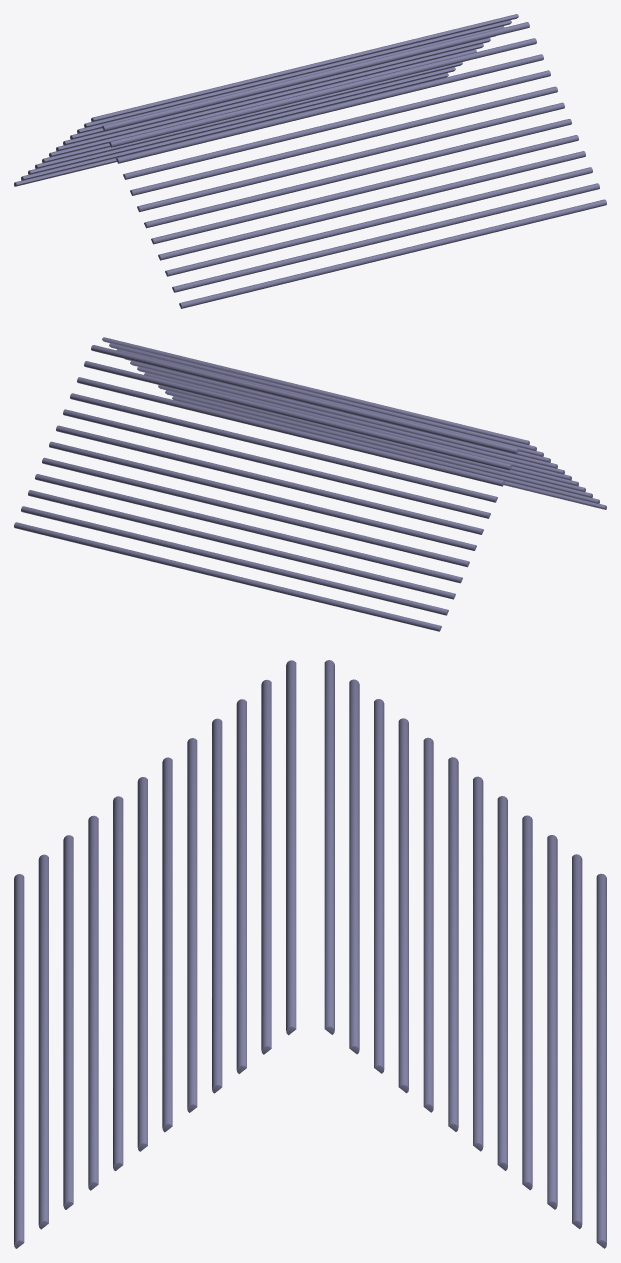
The model's file is Roof_2.fbx.
3 renders of one model, top to bottom at view 1: azimuth 30°, elevation 25°; view 2: azimuth 150°, elevation 25°; view 3: azimuth 270°, elevation 25°, orthographic. The views are drawn at different scales.
Parts seen in each view (by area): view 1: Cylinder025; view 2: Cylinder025; view 3: Cylinder025.
Boxes of the visible parts, x1,y1,x2,y2 form: Cylinder025: [14, 14, 606, 308]; Cylinder025: [14, 337, 606, 631]; Cylinder025: [14, 660, 606, 1248].
Size of the model in its own units: 1300 by 369 by 889.
